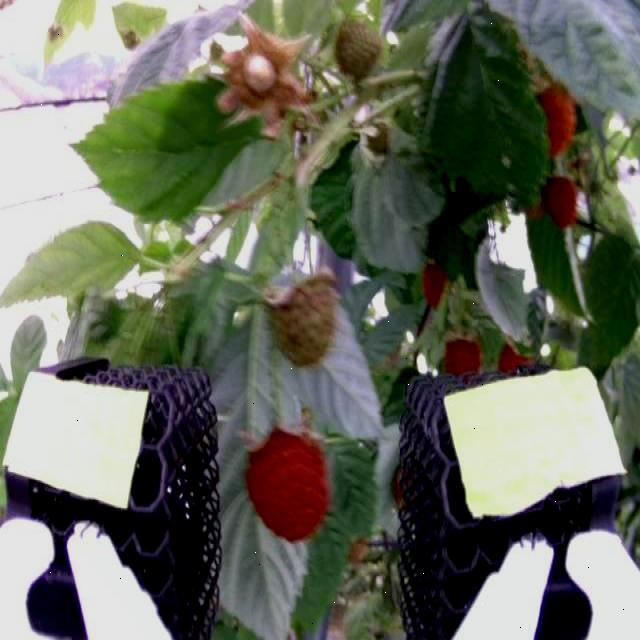Riped berries: (244, 419, 338, 539), (537, 82, 582, 152), (544, 173, 580, 230), (442, 331, 484, 374), (417, 258, 449, 303), (498, 338, 534, 373)
